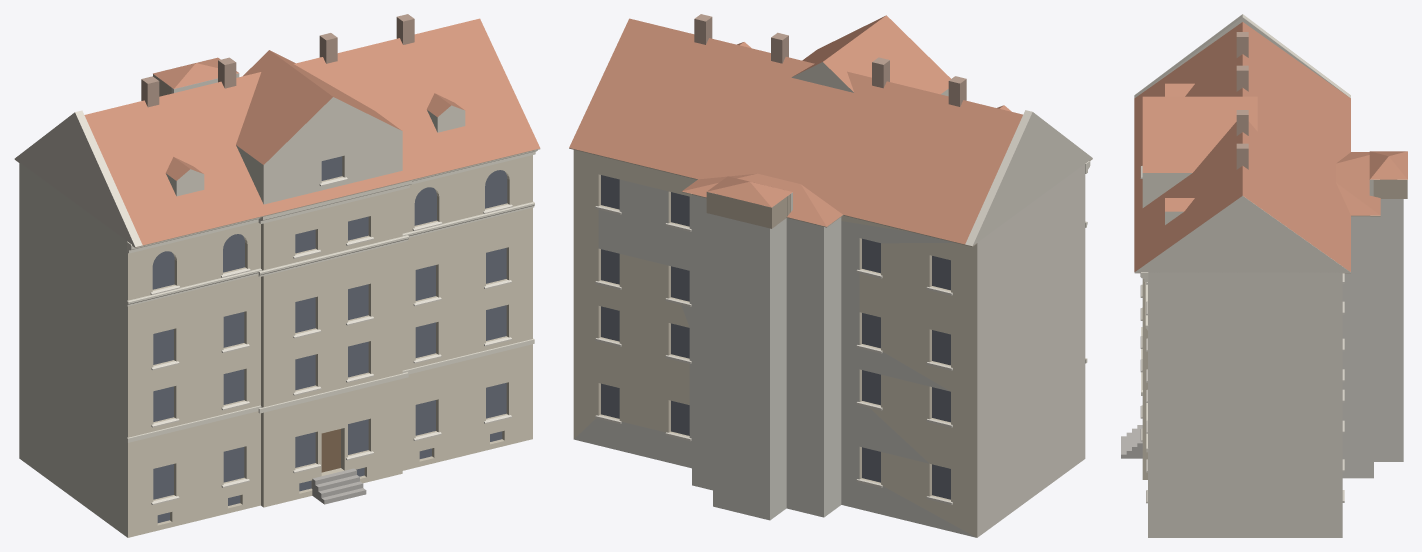
3 views of the same model, side by side, from view 1: azimuth 30°, elevation 25°; view 2: azimuth 150°, elevation 25°; view 3: azimuth 270°, elevation 25° (orthographic). The views are drawn at different scales.
Parts seen in each view (by area): view 1: CP_1503_Masonry, CP_1503_Roof, CP_1503_Dormer_ZG, CP_1503_Gable_L_firewall, CP_1503_WingRoof_Stair_Tower, CP_1503_Cornice_main_M_0, CP_1503_Dormer_DL, CP_1503_Dormer_DR, CP_1503_Cornice_string3_M_0, CP_1503_Cornice_string1_M_0, CP_1503_Cornice_string3_L_0, CP_1503_Cornice_string3_R_0 (+3 smaller); view 2: CP_1503_Masonry, CP_1503_Roof, CP_1503_Rear_Risalit, CP_1503_Stair_Tower, CP_1503_Gable_L_firewall, CP_1503_Dormer_ZG, CP_1503_WingRoof_Rear_Risalit, CP_1503_WingRoof_Stair_Tower, CP_1503_WingRoof_Stair_Tower_EaveClosure_3; view 3: CP_1503_Masonry, CP_1503_Roof, CP_1503_Gable_R_gable, CP_1503_Stair_Tower, CP_1503_Rear_Risalit, CP_1503_Dormer_ZG, CP_1503_WingRoof_Rear_Risalit, CP_1503_Gable_L_firewall, CP_1503_WingRoof_Stair_Tower, CP_1503_Dormer_DR, CP_1503_WingRoof_Stair_Tower_EaveClosure_2, CP_1503_Dormer_DL.
Boxes of the visible parts, x1,y1,x2,y2 form: CP_1503_Masonry: (19,155,532,537); CP_1503_Roof: (84,18,539,245); CP_1503_Dormer_ZG: (236,50,402,204); CP_1503_Gable_L_firewall: (14,110,142,246); CP_1503_WingRoof_Stair_Tower: (153,57,238,88); CP_1503_Cornice_main_M_0: (258,180,411,223); CP_1503_Dormer_DL: (165,157,204,196); CP_1503_Dormer_DR: (426,93,465,132); CP_1503_Cornice_string3_M_0: (258,235,408,276); CP_1503_Cornice_string1_M_0: (258,372,408,413); CP_1503_Cornice_string3_L_0: (127,268,261,306); CP_1503_Cornice_string3_R_0: (402,201,534,237); CP_1503_Masonry: (573,150,1085,537); CP_1503_Roof: (569,18,1022,244); CP_1503_Rear_Risalit: (692,195,841,517); CP_1503_Stair_Tower: (713,214,786,520); CP_1503_Gable_L_firewall: (965,110,1092,246); CP_1503_Dormer_ZG: (791,15,950,96); CP_1503_WingRoof_Rear_Risalit: (682,173,842,226); CP_1503_WingRoof_Stair_Tower: (707,176,792,207); CP_1503_WingRoof_Stair_Tower_EaveClosure_3: (706,192,777,228); CP_1503_Masonry: (1142,272,1342,537); CP_1503_Roof: (1134,22,1350,271); CP_1503_Gable_R_gable: (1134,196,1350,272); CP_1503_Stair_Tower: (1374,199,1403,461); CP_1503_Rear_Risalit: (1342,216,1373,478); CP_1503_Dormer_ZG: (1142,96,1257,207); CP_1503_WingRoof_Rear_Risalit: (1336,152,1380,215); CP_1503_Gable_L_firewall: (1134,14,1350,98); CP_1503_WingRoof_Stair_Tower: (1369,151,1407,179); CP_1503_Dormer_DR: (1165,198,1194,224); CP_1503_WingRoof_Stair_Tower_EaveClosure_2: (1380,179,1397,198); CP_1503_Dormer_DL: (1165,83,1194,96).
Bounding box in the file's own units: 24.85 × 23.4 × 16.93.
